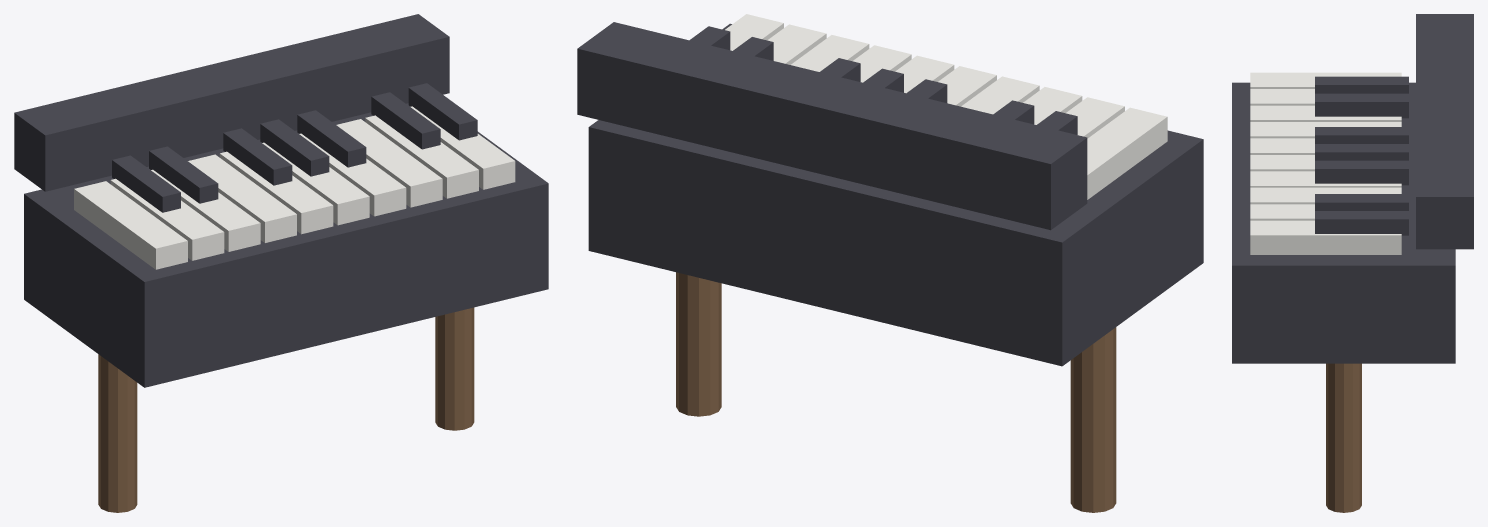
File: piano.glb
The picture shows the model from 3 angles, left to right: view 1: azimuth 30°, elevation 25°; view 2: azimuth 150°, elevation 25°; view 3: azimuth 270°, elevation 25°; orthographic projection. The views are drawn at different scales.
Bounding box in the file's own units: 1.2 × 0.99 × 0.67.
